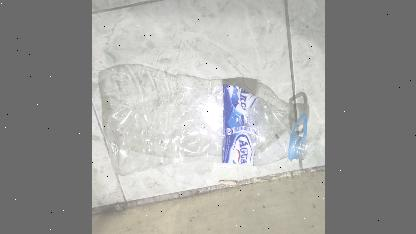Plastic Bottle: (97, 63, 309, 166)
